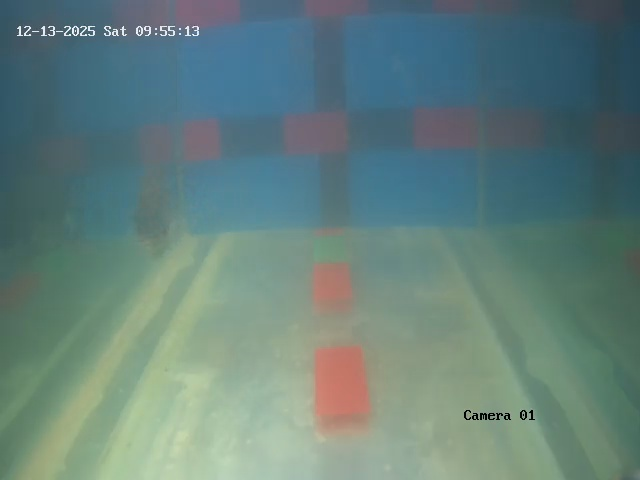fish: (119, 159, 187, 263)
